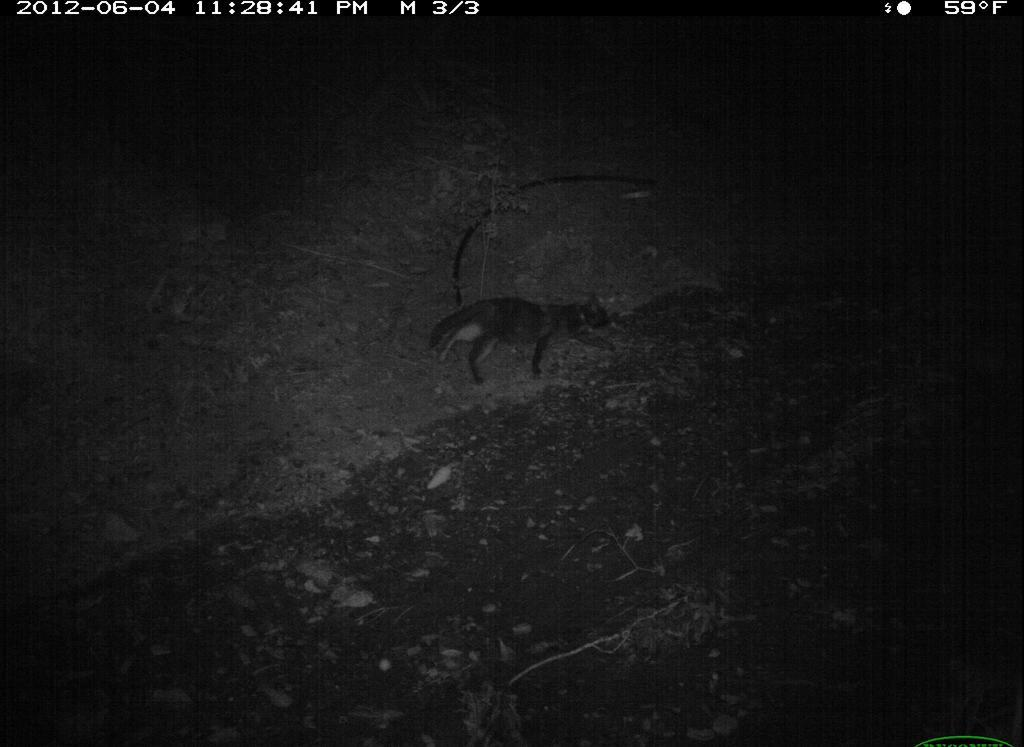cat: (424, 285, 620, 392)
